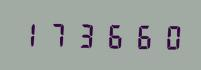one: (17, 18, 43, 49)
seven: (44, 19, 70, 49)
six: (99, 19, 125, 50), (126, 20, 152, 50)
three: (72, 19, 98, 49)
zero: (153, 20, 179, 51)
